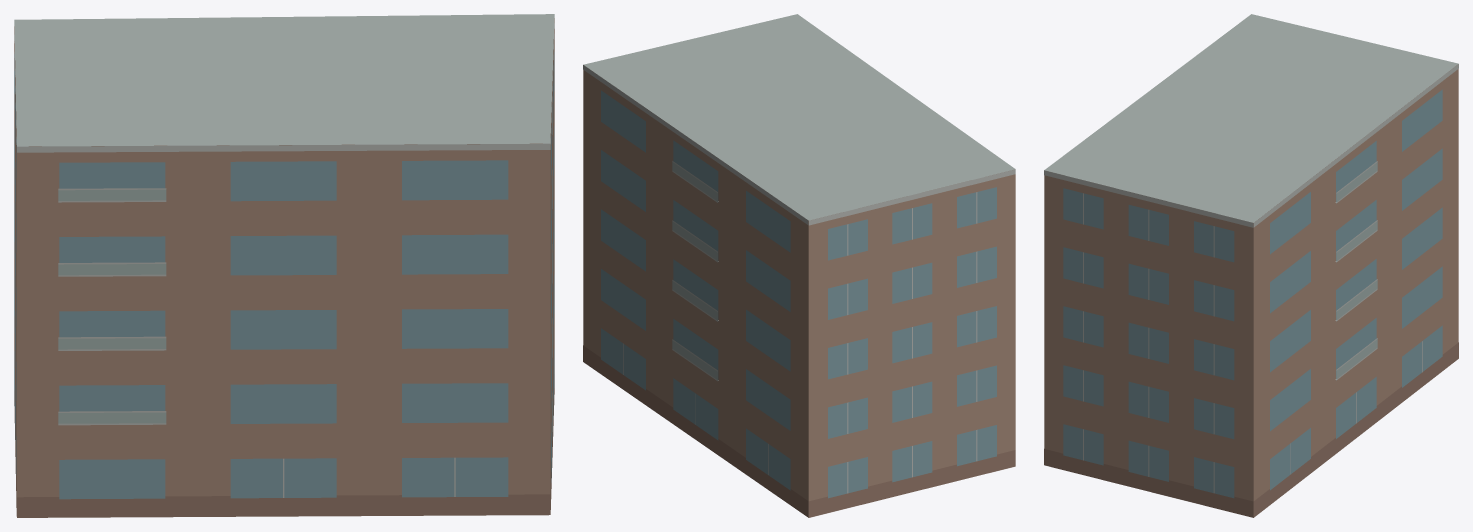
Rendered from survey-upis-32868984.glb.
The picture shows the model from 3 angles, left to right: view 1: azimuth 30°, elevation 25°; view 2: azimuth 150°, elevation 25°; view 3: azimuth 270°, elevation 25°; orthographic projection. The views are drawn at different scales.
Parts seen in each view (by area): view 1: survey-upis-32868984.tmp; view 2: survey-upis-32868984.tmp; view 3: survey-upis-32868984.tmp.
Boxes of the visible parts, x1,y1,x2,y2 form: survey-upis-32868984.tmp: [14, 14, 554, 517]; survey-upis-32868984.tmp: [583, 14, 1015, 517]; survey-upis-32868984.tmp: [1044, 14, 1458, 517].
Bounding box in the file's own units: 22.34 × 14.7 × 18.74.
